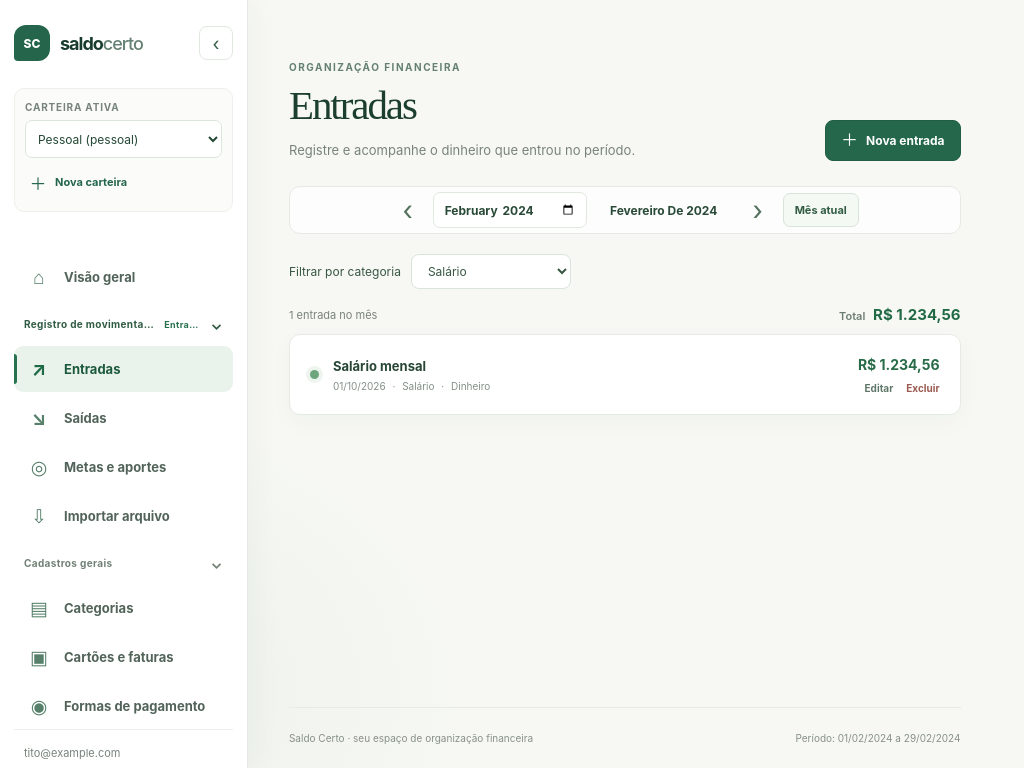
Test case: IncomesPage currency input › opens the dashboard month and category, filters totals and lets the user clear the category
Expected: the dropdown labelled "Carteira ativa" is shown, x1=25 y1=120 x2=222 y2=158
Expected: the heading "Salário mensal" is shown, x1=333 y1=358 x2=426 y2=374
Select "Todas as categorias" in the dropdown labelled "Filtrar por categoria": (491, 272) x1=411 y1=254 x2=571 y2=289
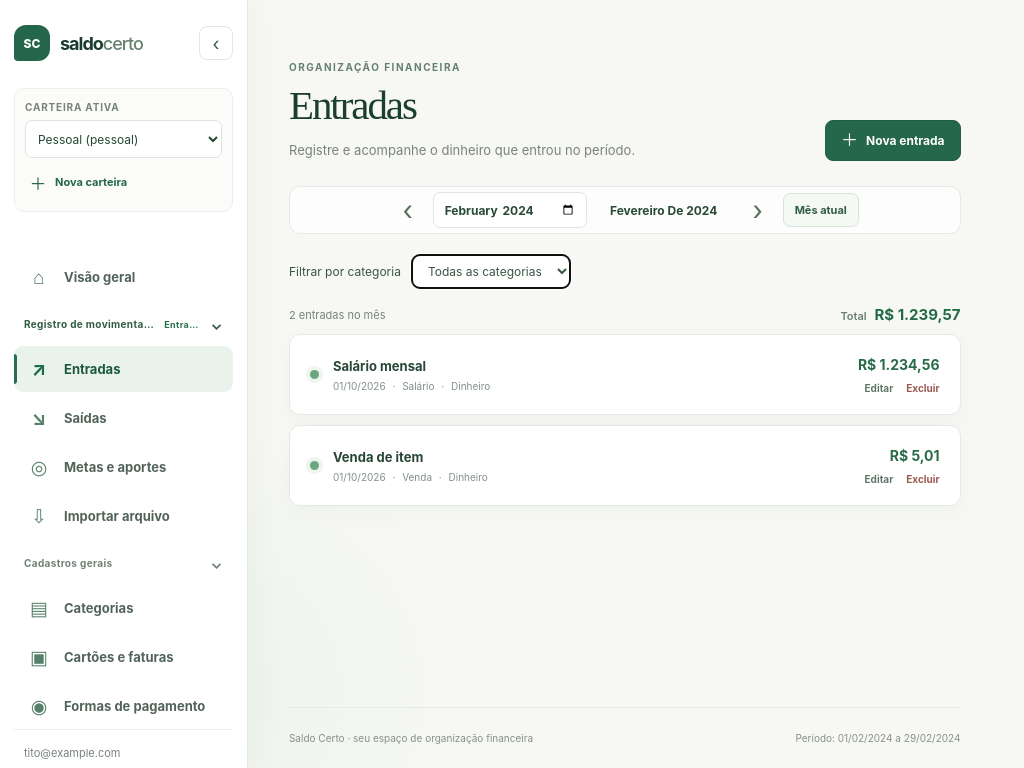
Expected: the heading "Venda de item" is shown, x1=333 y1=449 x2=423 y2=465
